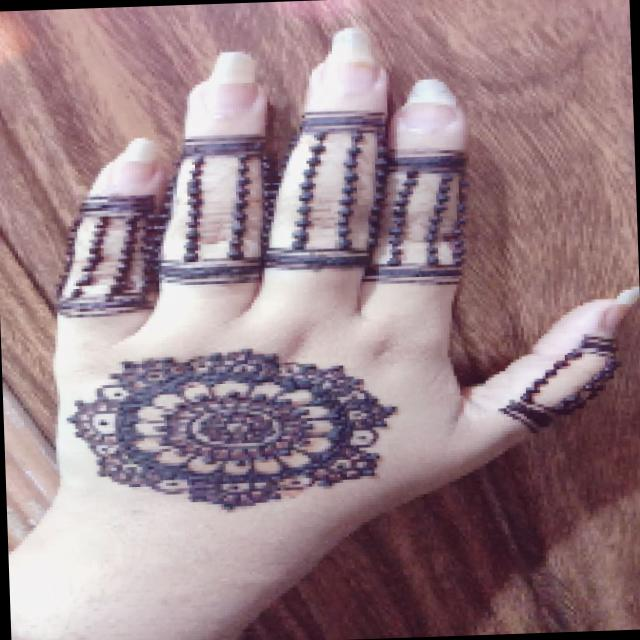Nail: (321, 26, 378, 93), (205, 50, 257, 115), (404, 77, 456, 128), (109, 138, 158, 188), (600, 285, 638, 332)
